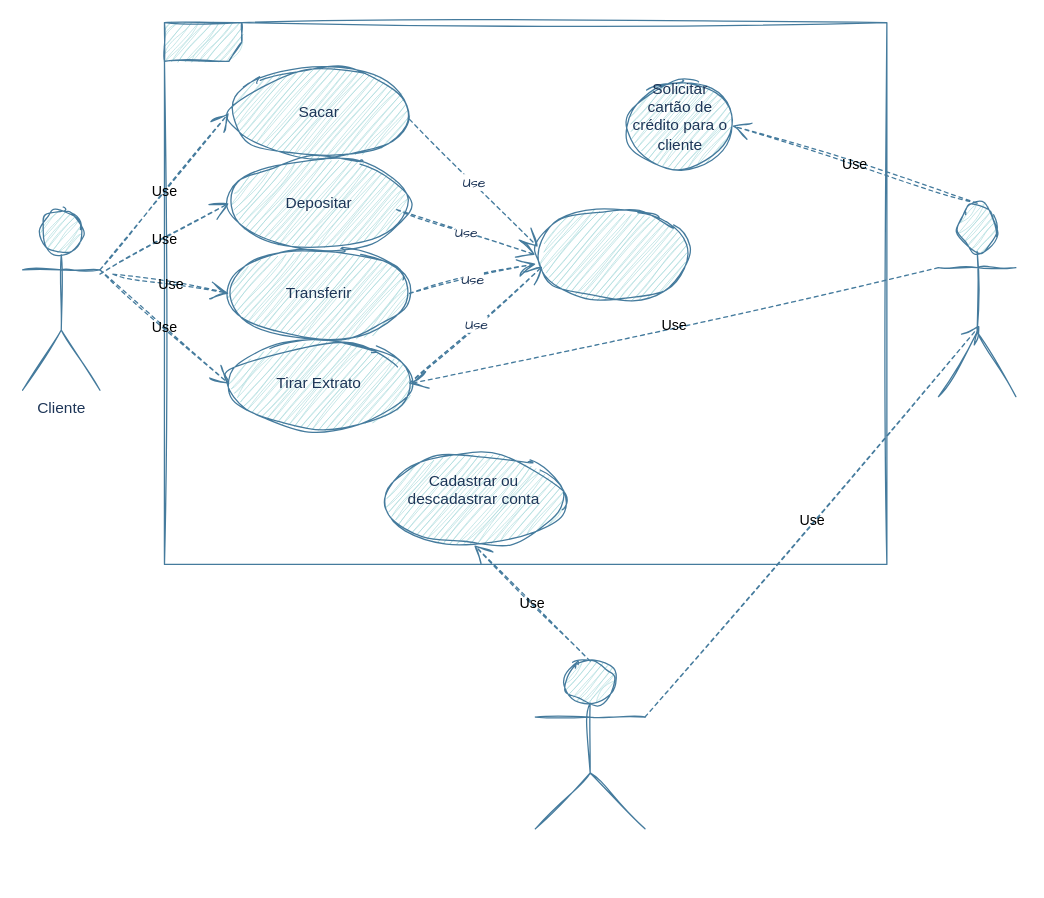
Image size: 1044x898. Some labels were removed from this diagram. Each missing label, with the box of its shape:
Autenticar: (534, 208, 690, 300)
Funcionários: (937, 202, 1016, 397)
Gerente: (534, 660, 645, 829)
Sis. Banco: (163, 21, 887, 564)
